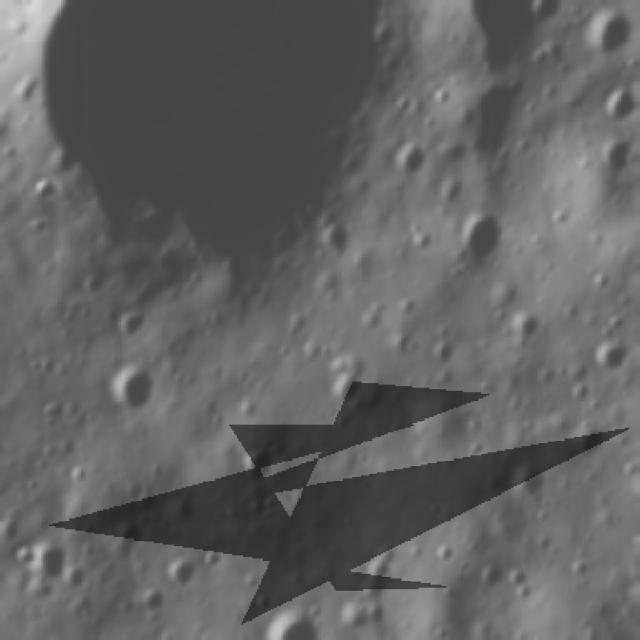crater: (6, 0, 397, 291), (444, 0, 538, 75), (412, 385, 479, 458), (453, 200, 513, 271), (106, 358, 166, 420), (584, 4, 633, 61), (261, 603, 333, 640), (561, 414, 616, 461), (326, 358, 374, 410), (235, 443, 283, 491), (107, 515, 155, 563), (432, 167, 478, 216), (598, 78, 640, 131), (35, 537, 76, 588), (388, 138, 429, 187), (511, 459, 552, 507), (483, 274, 525, 315), (601, 133, 640, 176), (595, 333, 633, 375), (320, 218, 357, 260), (25, 174, 64, 212), (245, 487, 282, 527), (504, 559, 538, 601), (165, 549, 197, 591), (118, 306, 154, 343), (139, 579, 173, 618), (358, 302, 392, 340), (510, 307, 542, 347), (430, 334, 464, 371), (478, 556, 512, 592), (390, 326, 424, 362), (527, 38, 562, 72), (338, 598, 371, 634), (404, 224, 438, 258), (44, 149, 79, 182), (361, 551, 393, 587), (238, 389, 268, 426), (388, 88, 418, 121), (530, 0, 565, 28), (126, 473, 151, 510), (201, 540, 227, 575), (64, 560, 90, 594), (10, 543, 39, 572), (434, 537, 460, 568), (436, 81, 462, 110), (73, 458, 98, 488), (32, 214, 57, 240), (571, 554, 591, 586), (570, 376, 595, 401), (82, 271, 106, 295), (42, 437, 61, 463), (278, 339, 294, 361)
